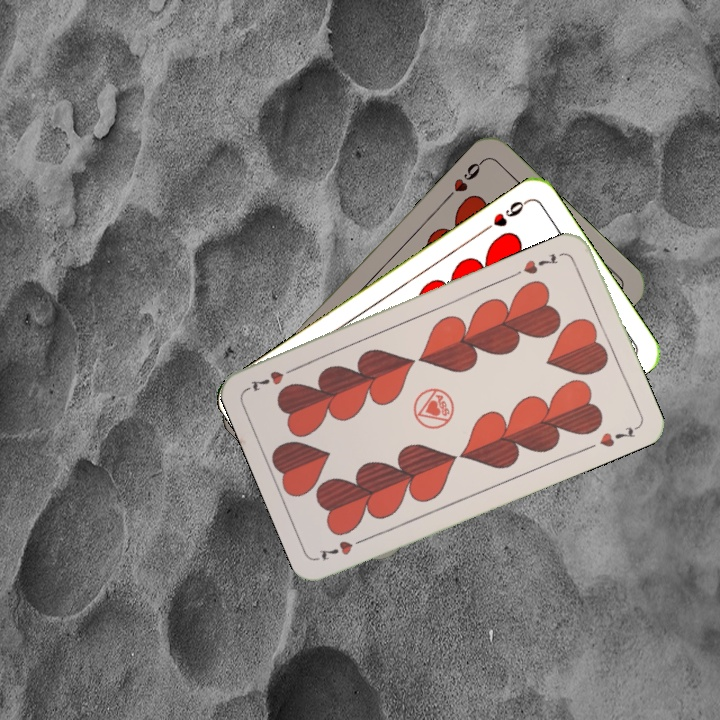H7: (315, 533, 371, 563), (519, 249, 561, 277)
H9: (441, 156, 487, 203), (479, 195, 531, 235)
